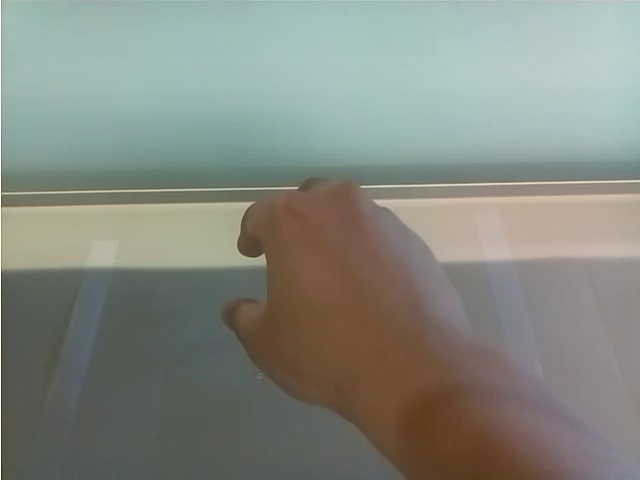hand: (214, 174, 481, 413)
